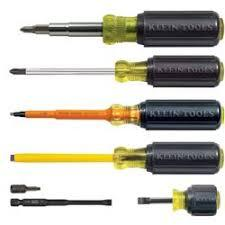screwdriver: (7, 139, 224, 174), (7, 54, 223, 88), (8, 98, 224, 130), (48, 9, 223, 45), (136, 183, 224, 216), (9, 196, 113, 207), (19, 22, 49, 34), (9, 182, 40, 192)
